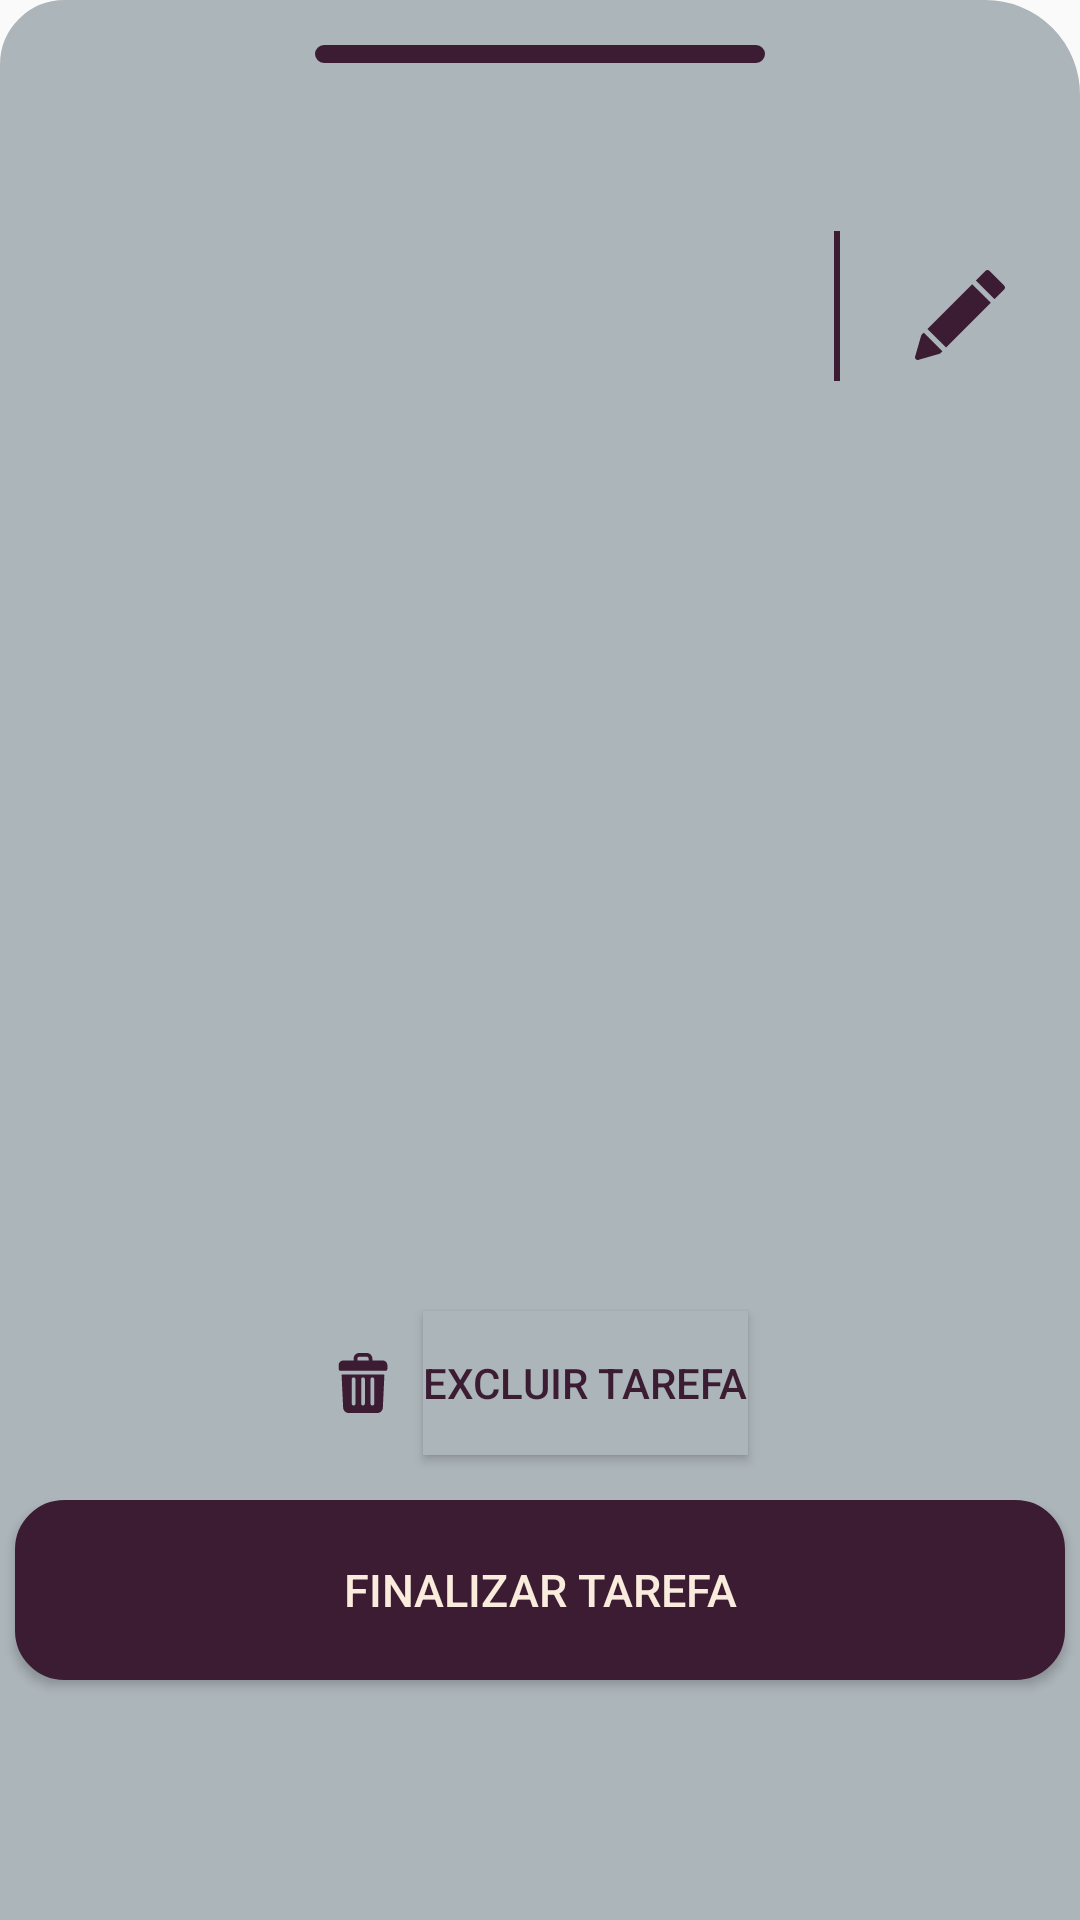

Where to tap for icons on this 1080px x 1920px app screen, as [x,y]:
ferramenta lapis: [960,315]
trash: [363,1383]
